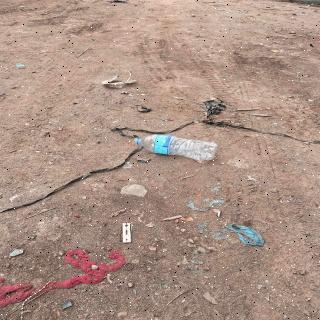Plastic-bottle: (132, 133, 222, 166)
